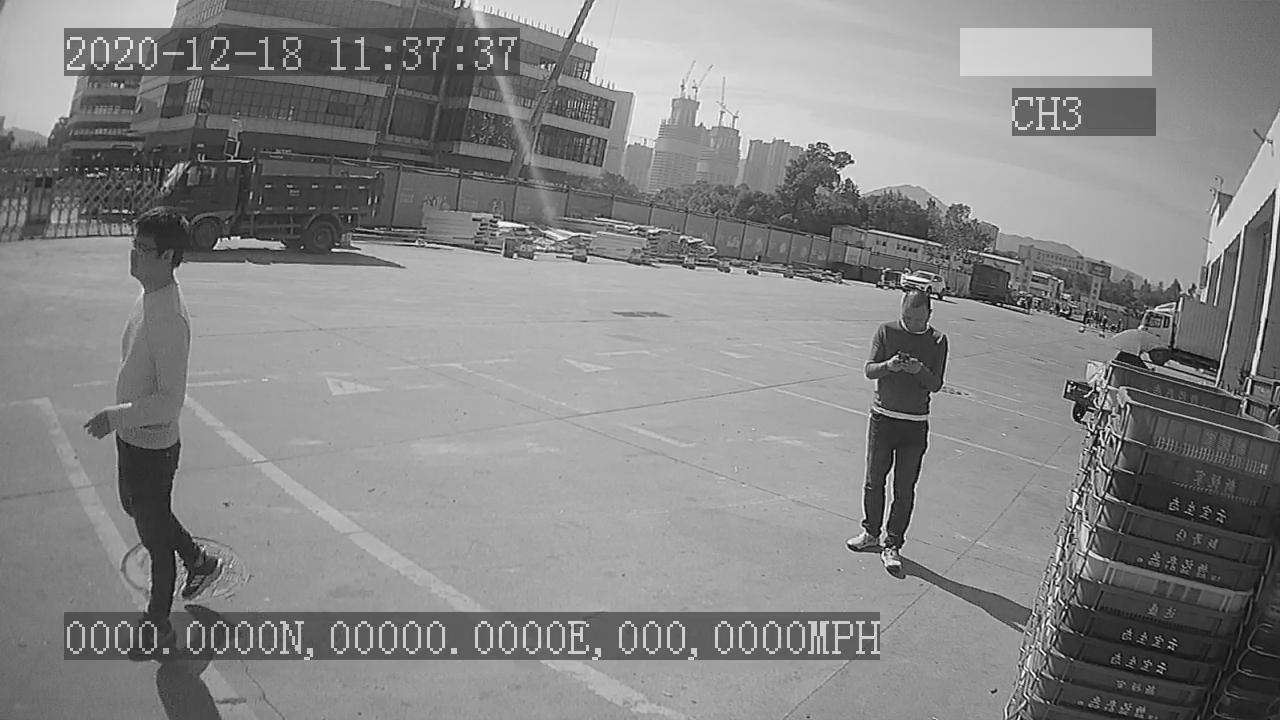person: (841, 290, 956, 570)
